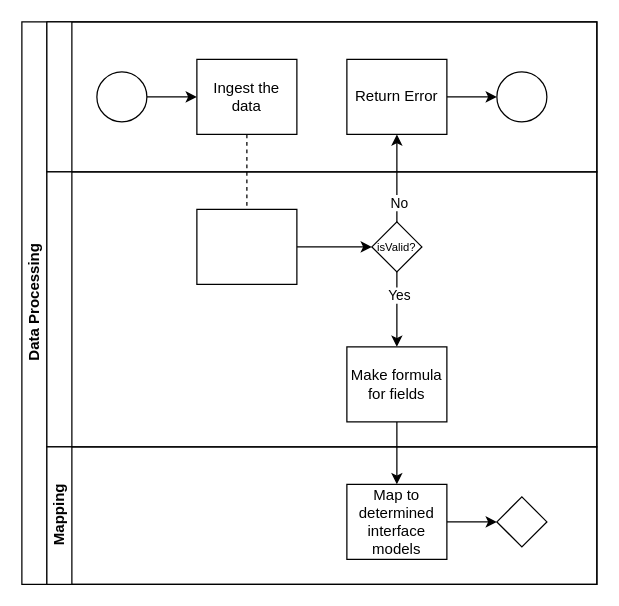
Image size: 619x606. Some labels were removed from this diagram. Here are the shapes that lost their labels. From the top down, the box of each, then its label:
(46, 21, 597, 172): Ingestion
(196, 208, 297, 284): Make validations
(46, 171, 597, 447): Processing
